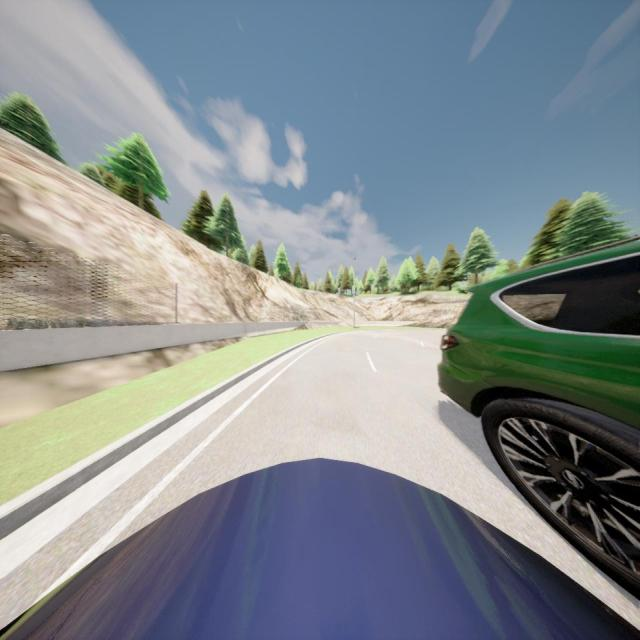Vehicle: (0, 455, 640, 640), (438, 238, 640, 598)
